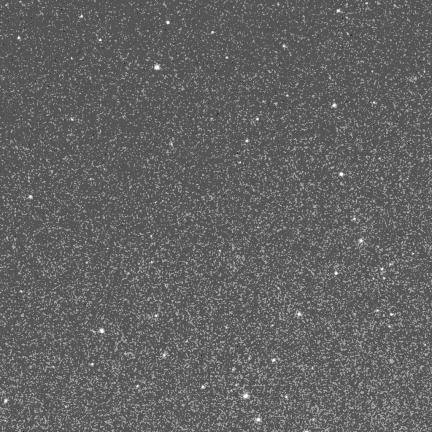blob: (99, 328, 106, 334), (389, 359, 395, 364), (154, 65, 160, 70), (17, 36, 22, 41), (256, 417, 261, 422), (243, 394, 248, 398), (79, 14, 83, 18), (383, 277, 387, 281), (99, 38, 103, 42), (162, 354, 166, 358), (211, 31, 215, 35), (359, 239, 363, 243), (4, 399, 8, 403), (297, 312, 301, 316), (256, 118, 260, 122), (90, 362, 94, 366), (285, 395, 288, 399), (29, 195, 32, 199), (376, 310, 380, 313), (201, 385, 205, 388), (272, 359, 276, 362), (390, 313, 394, 316), (381, 268, 385, 271), (246, 139, 249, 143), (166, 21, 170, 24), (337, 9, 340, 13), (335, 271, 338, 275), (340, 172, 343, 176), (333, 103, 336, 107), (151, 261, 154, 265), (136, 385, 139, 388), (373, 101, 376, 104), (353, 217, 356, 220), (226, 57, 229, 60), (155, 314, 158, 317), (71, 118, 74, 121)
